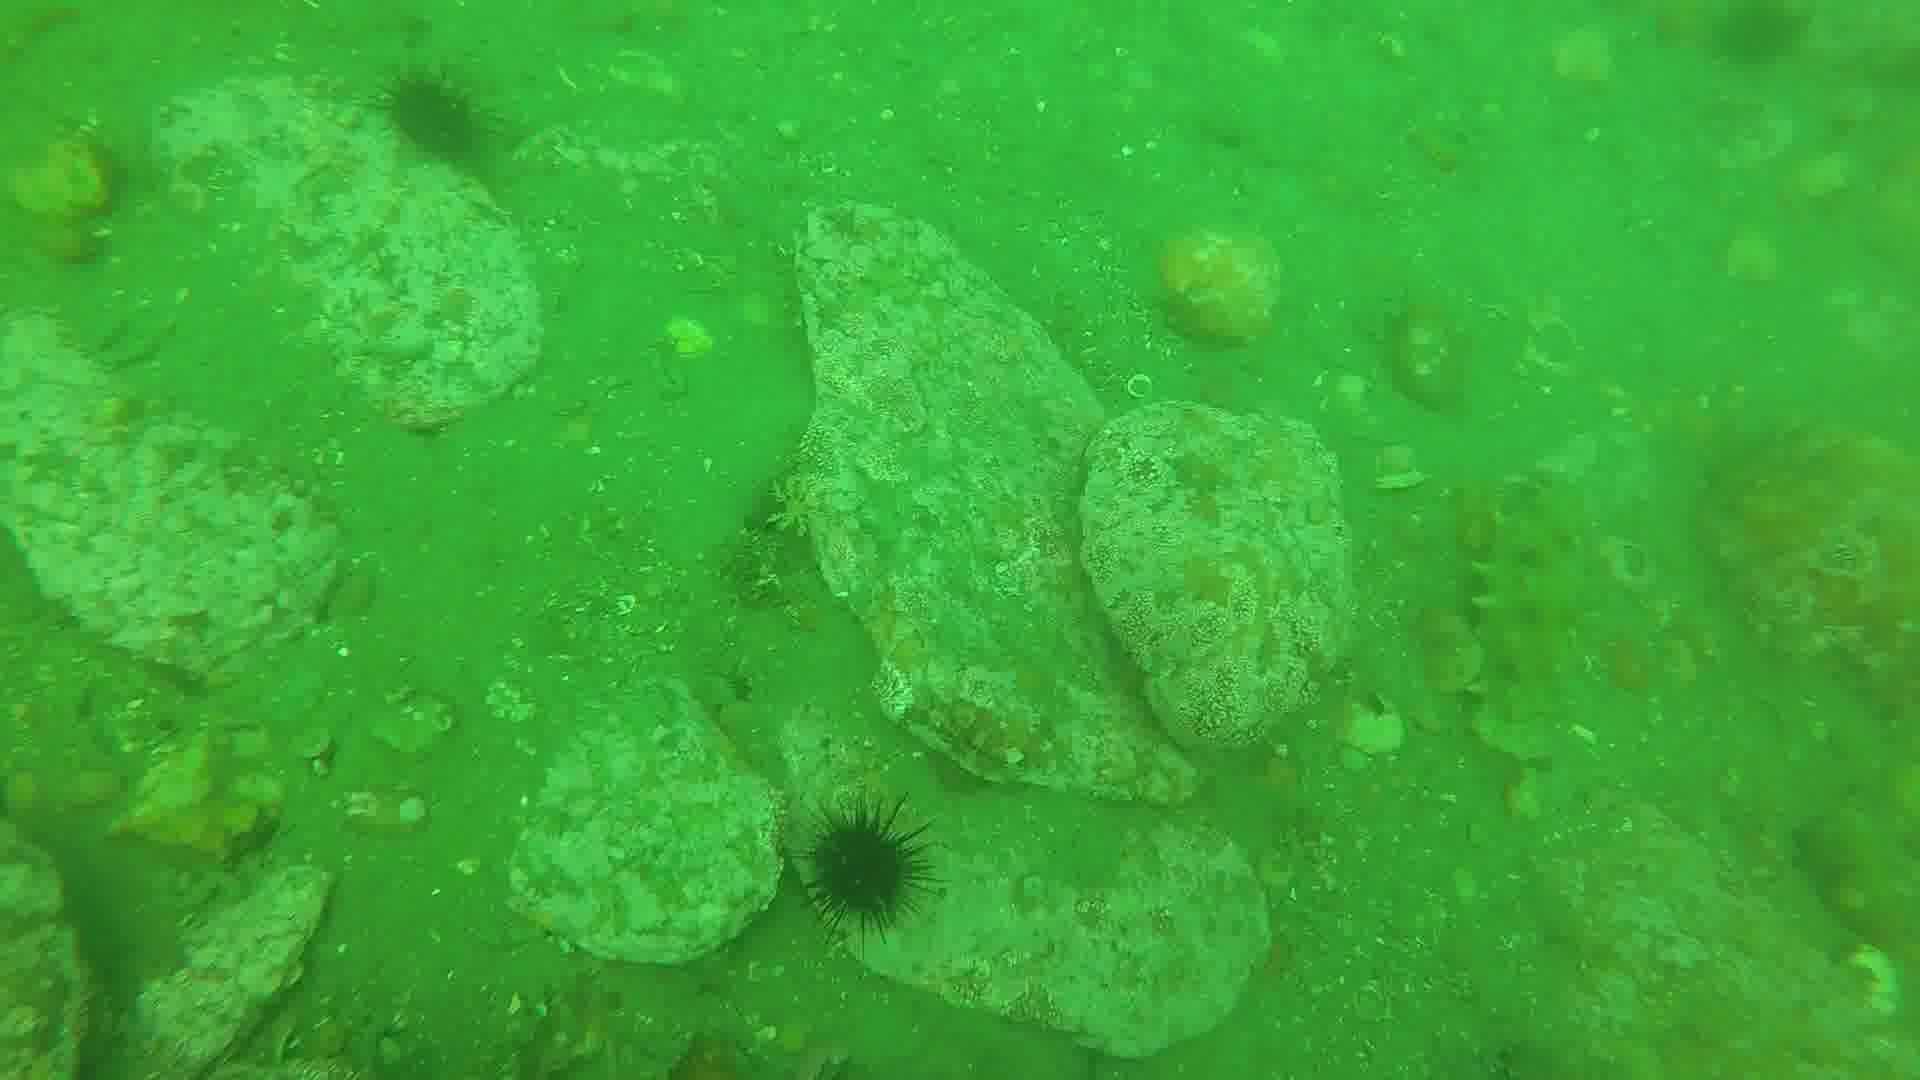echinus: (800, 802, 927, 928), (394, 74, 496, 165)
holothurian: (1473, 475, 1588, 752)
